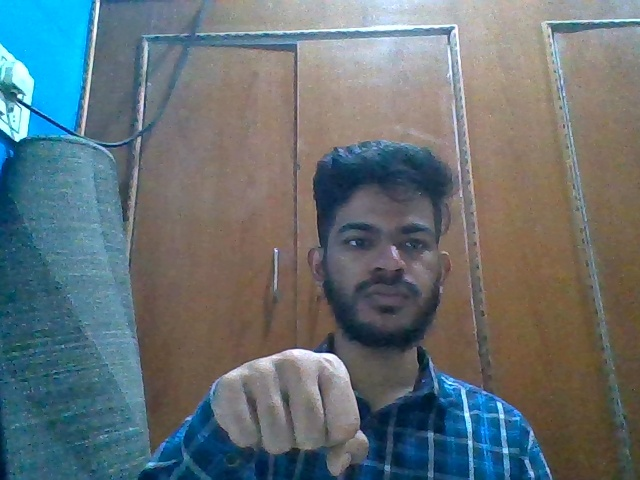yes: (209, 344, 372, 476)
